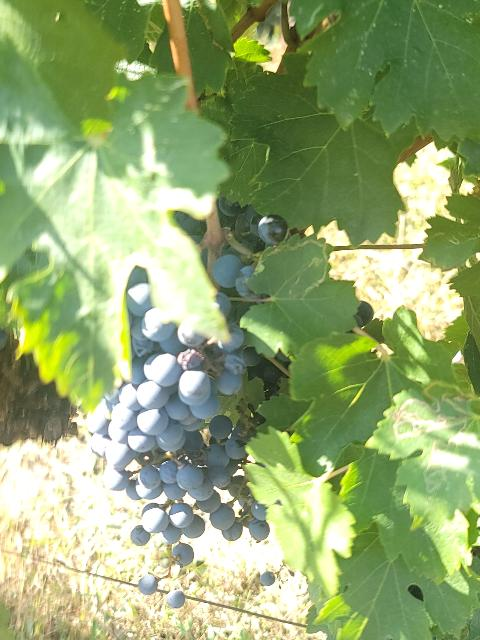grapes: (105, 282, 220, 470), (104, 460, 205, 569), (176, 435, 248, 540)
